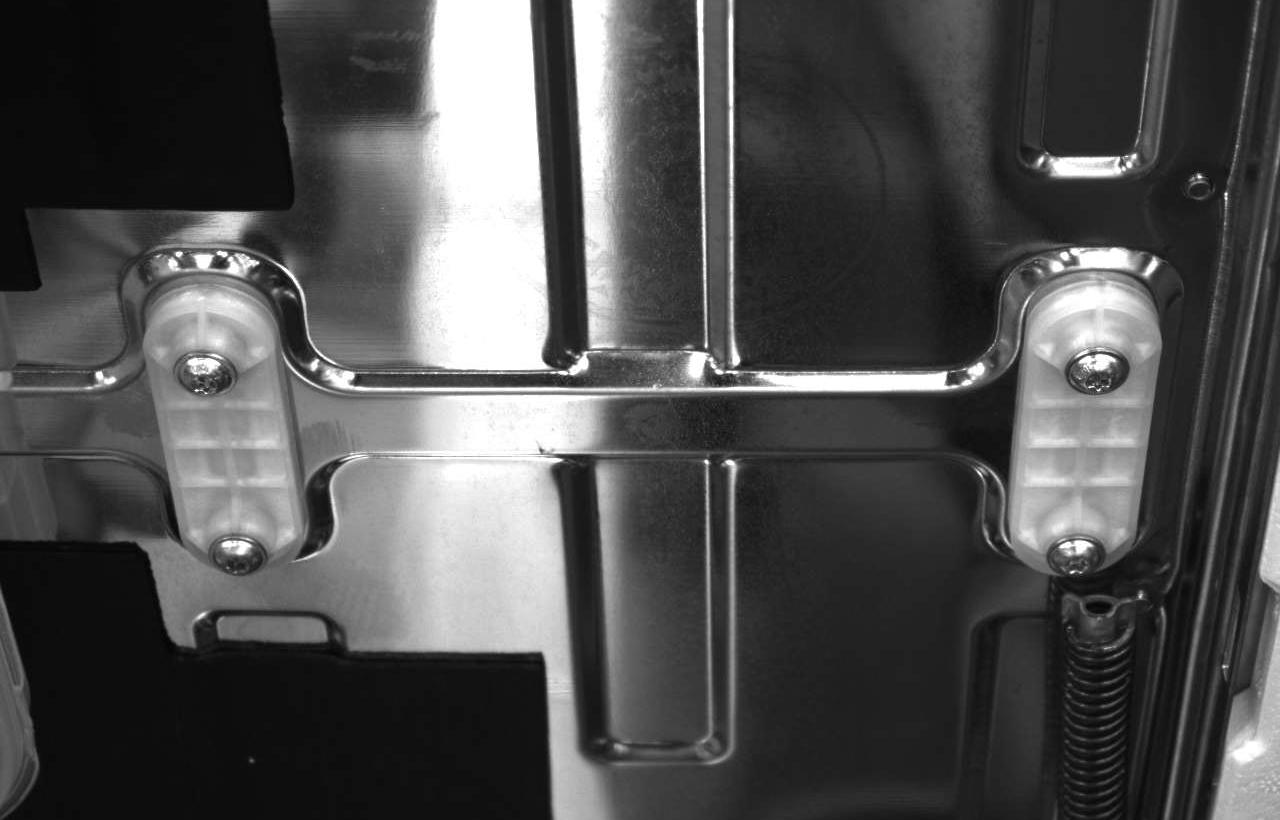vida-ok: (170, 341, 241, 408), (1064, 345, 1131, 412), (207, 522, 273, 581), (1040, 521, 1106, 579)
